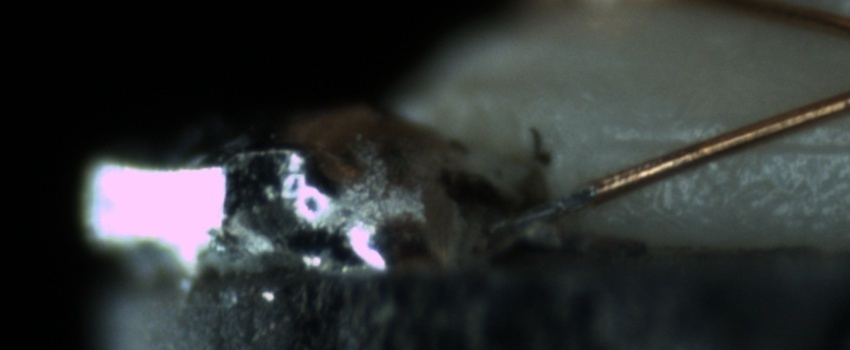DL: (615, 114, 846, 170)
TS: (497, 184, 594, 239)
